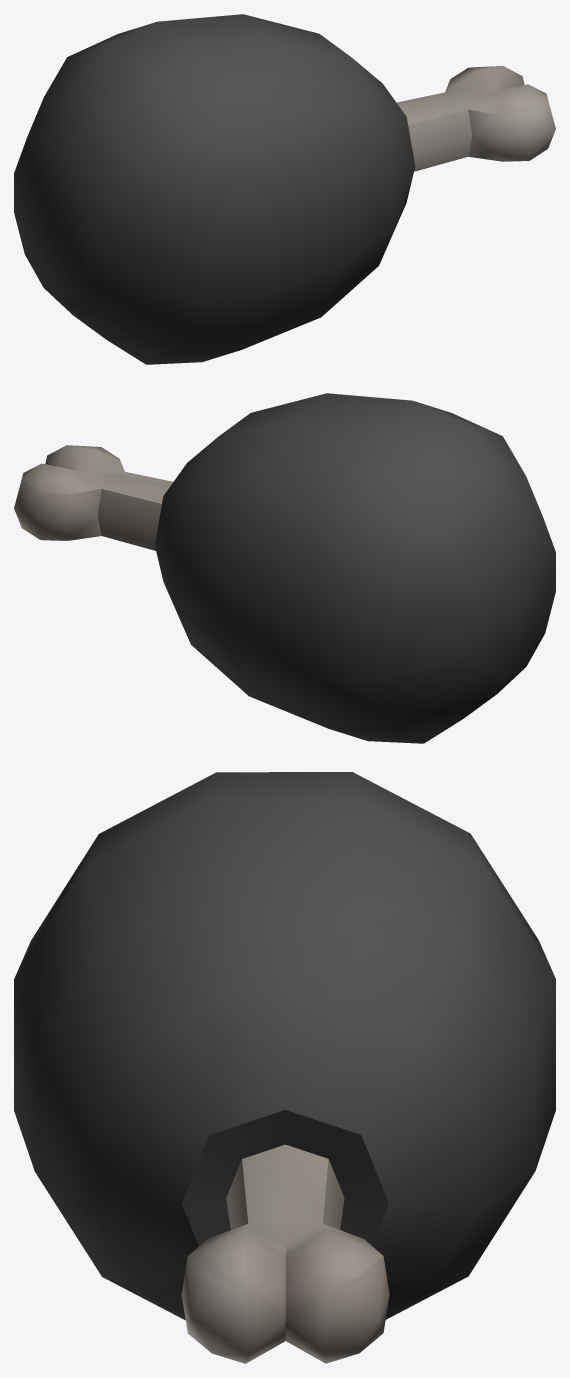
Rendered from burnt ham.glb.
3 views of the same model, one above another, from view 1: azimuth 30°, elevation 25°; view 2: azimuth 150°, elevation 25°; view 3: azimuth 270°, elevation 25° (orthographic). The views are drawn at different scales.
Visible parts, largest first — view 1: food_ingredient_ham_trash; view 2: food_ingredient_ham_trash; view 3: food_ingredient_ham_trash.
Part boxes in pixels (left/top/right/bottom): food_ingredient_ham_trash: left=14, top=14, right=555, bottom=364; food_ingredient_ham_trash: left=14, top=393, right=555, bottom=743; food_ingredient_ham_trash: left=14, top=772, right=555, bottom=1363.
Size of the model in its own units: 1.39 by 0.83 by 0.83.
1 material, 1 textured.
